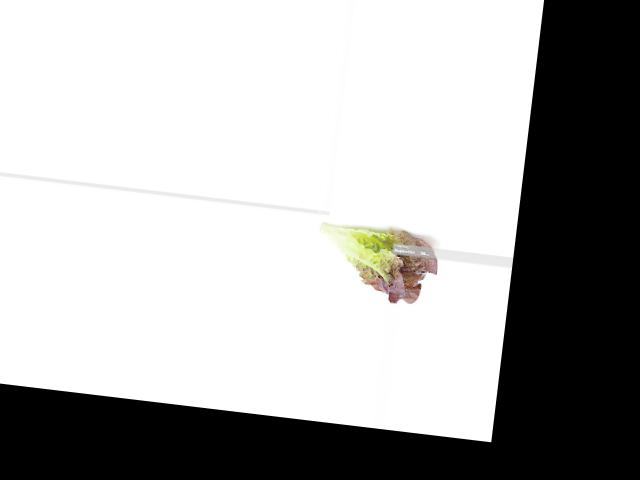lettuce: (307, 214, 444, 309)
